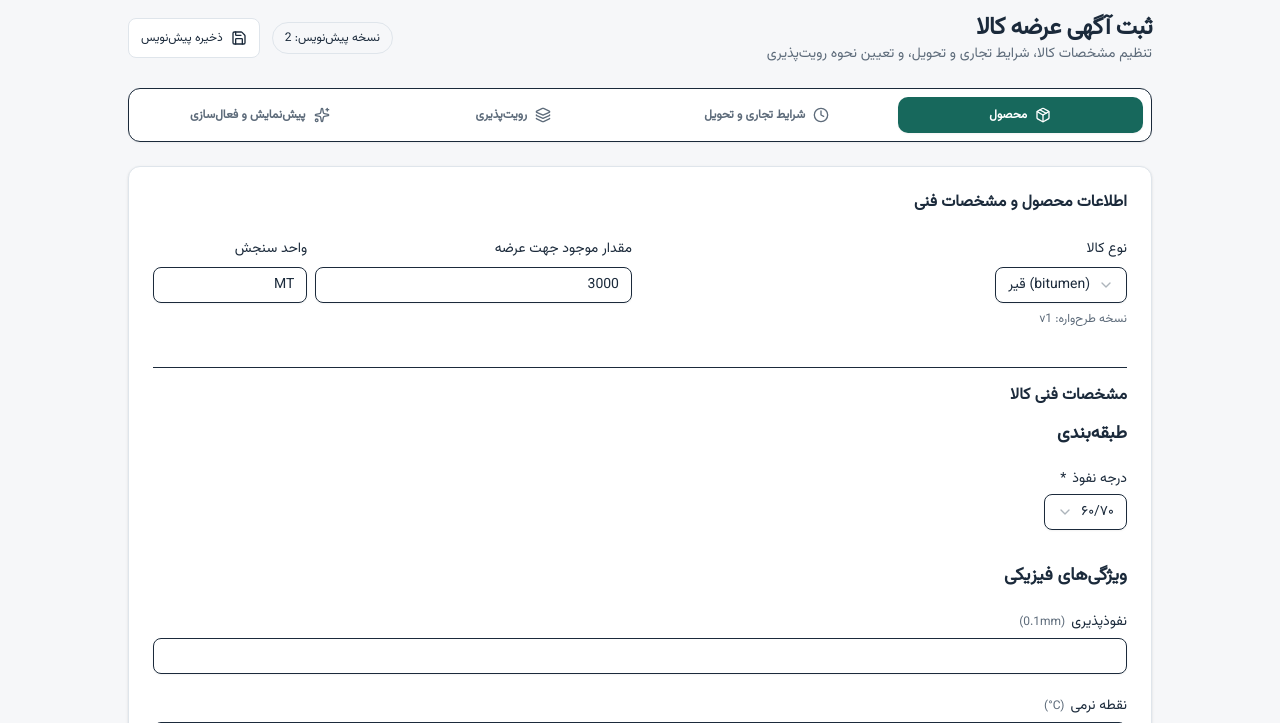
Test: T0509 — Supply Listing UI Component Suite › 6. Version persistence and save draft: subsequent saves use expected_version
Check: the text "نسخه پیش‌نویس: 2" is shown, box [272, 22, 393, 54]
Update quantity
Replace the text in the number field showing "3000" with "3500": (474, 285) [315, 267, 632, 303]
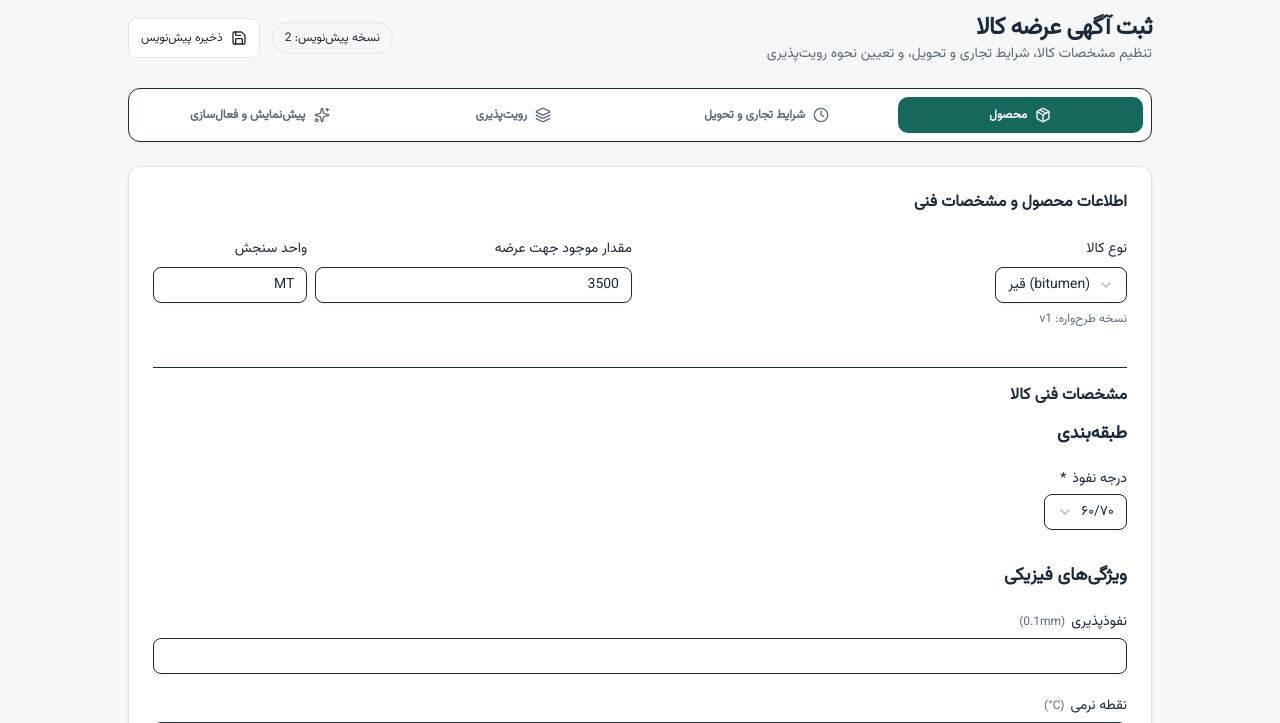
Click Save Draft
Click the button "ذخیره پیش‌نویس": (194, 38) [128, 18, 260, 58]
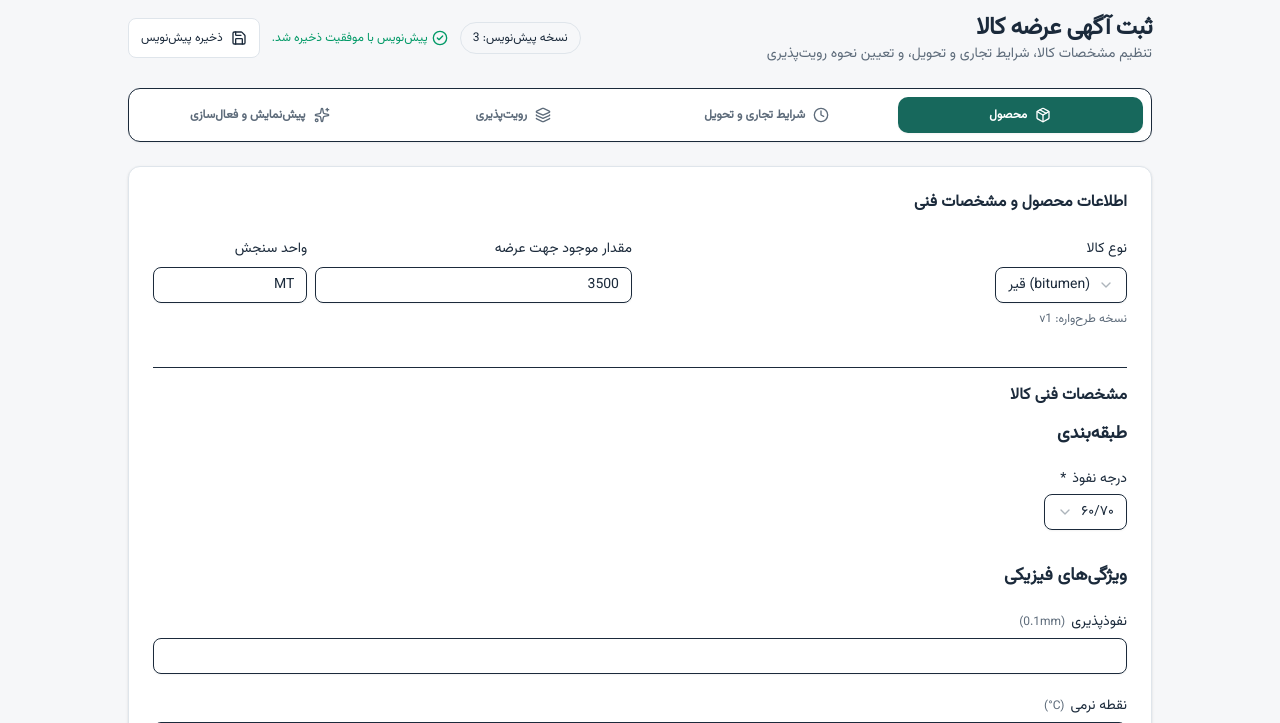
Check: the text "نسخه پیش‌نویس: 3" is shown, box [460, 22, 581, 54]
